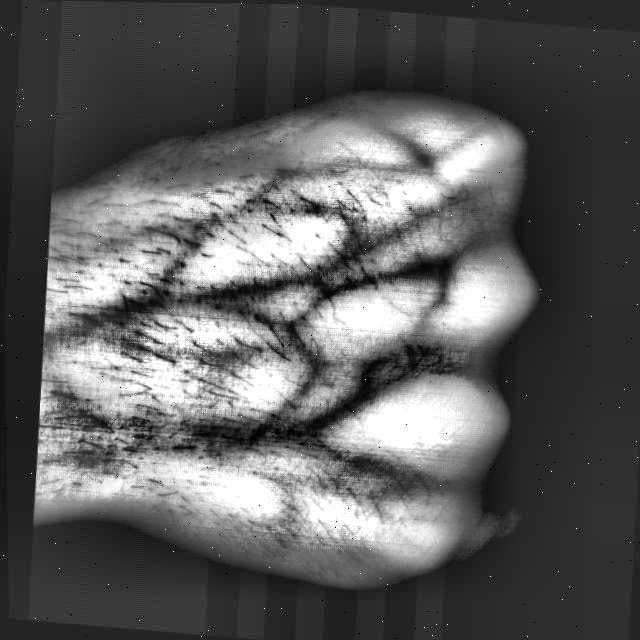Vein: (100, 268, 298, 322)
